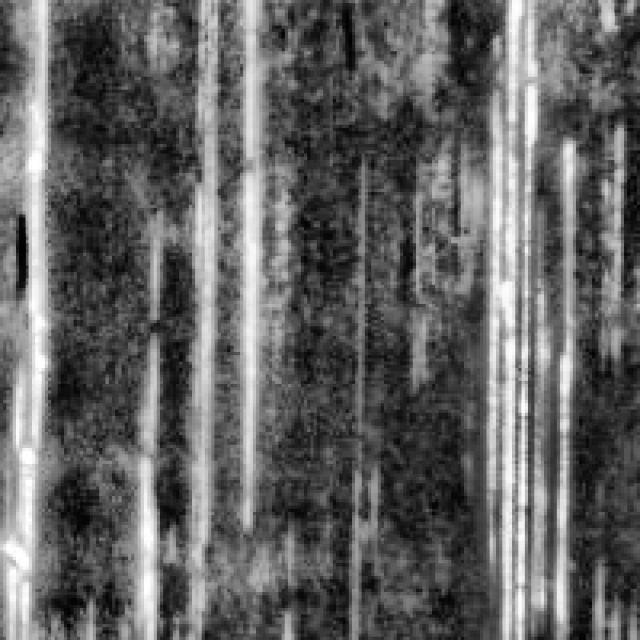Inclusion: (474, 3, 580, 630), (0, 0, 51, 630), (224, 0, 272, 525), (122, 243, 164, 634)
